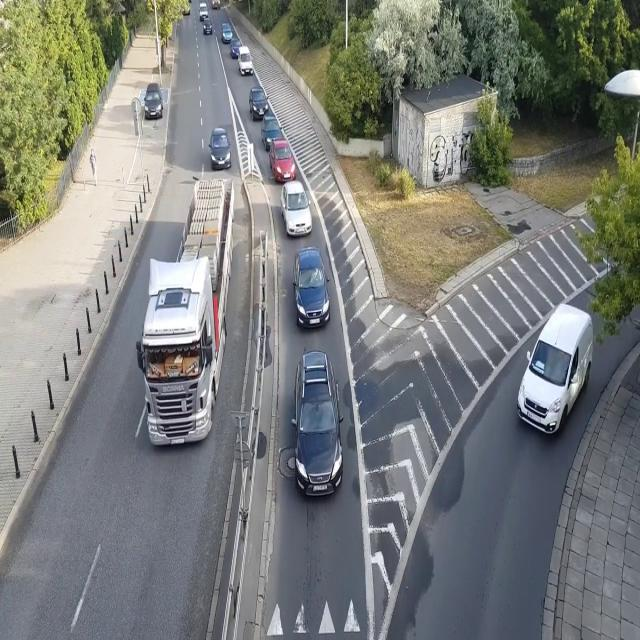car: (289, 349, 345, 503), (292, 248, 332, 328), (280, 180, 313, 237), (269, 137, 296, 181), (208, 125, 233, 170), (261, 115, 284, 151), (143, 82, 164, 120), (248, 86, 270, 121), (220, 22, 233, 45), (229, 36, 242, 58), (202, 18, 214, 37), (180, 3, 191, 15), (211, 0, 221, 10)
truck: (136, 175, 236, 447)
van: (517, 302, 594, 436), (238, 46, 254, 76), (198, 2, 209, 22)
